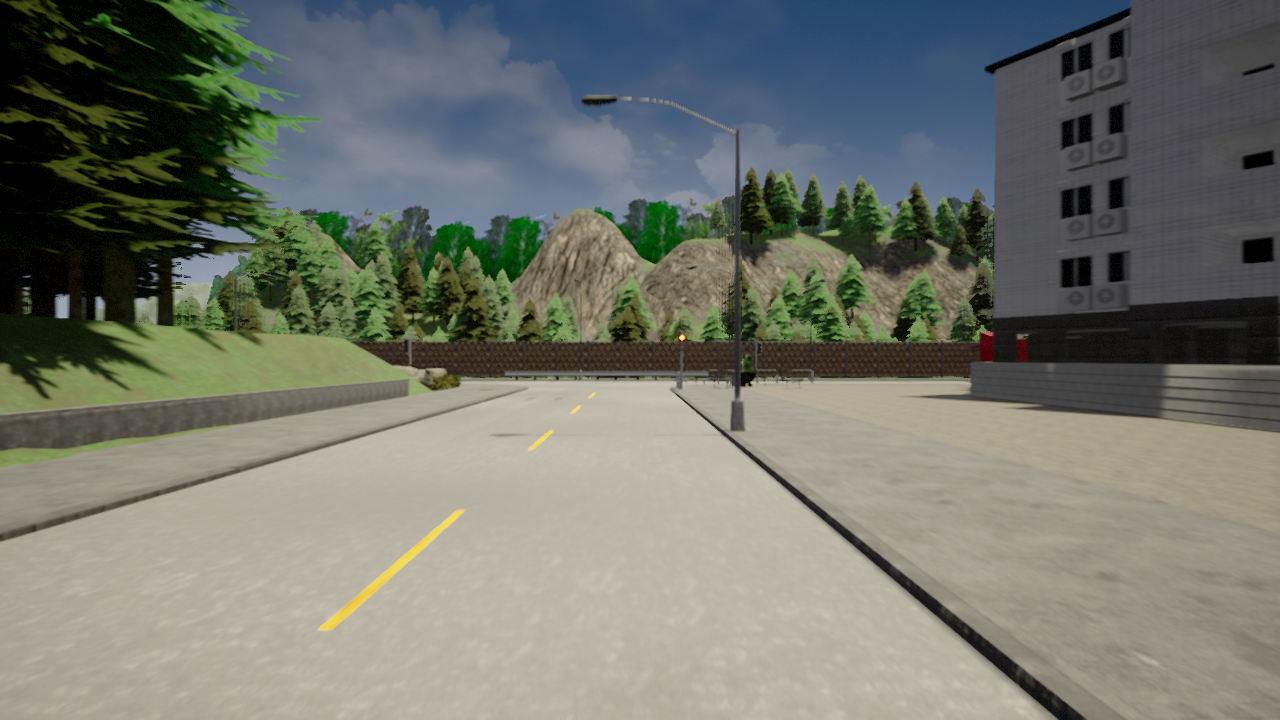red: (677, 333, 686, 352)
